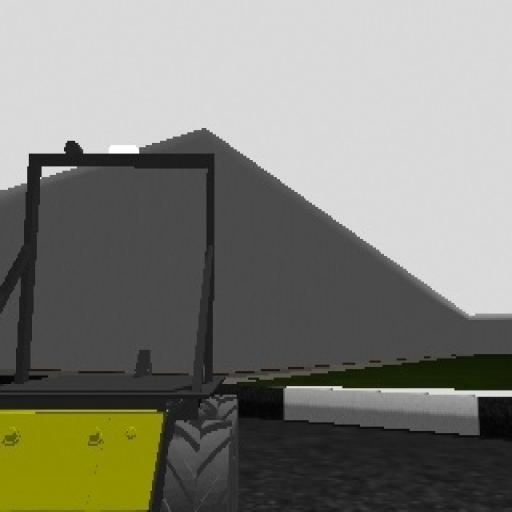huskya200: (2, 99, 246, 512)
